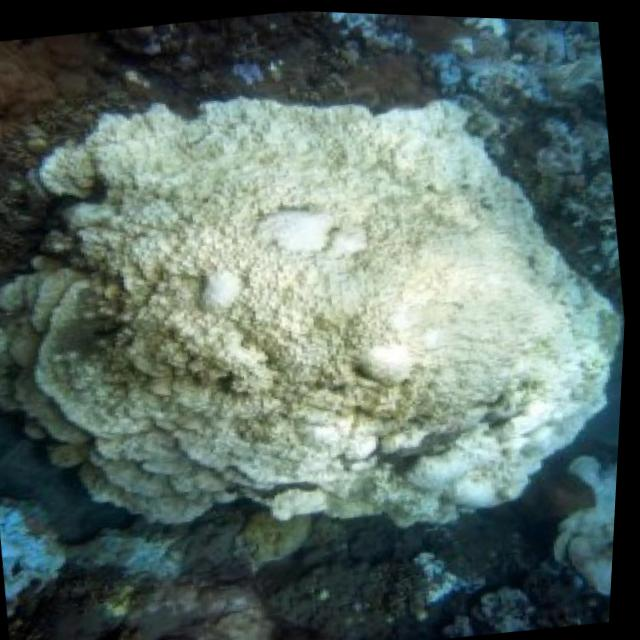Bleached Coral: (0, 46, 636, 570)
